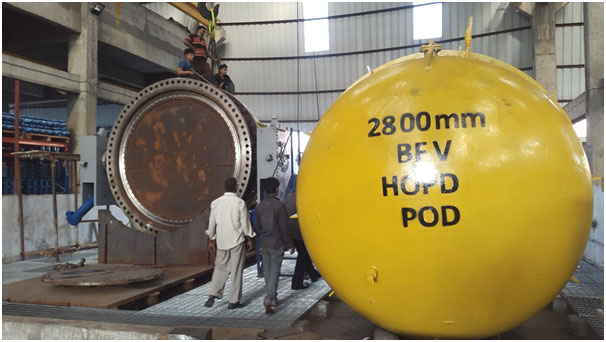noepi: (204, 173, 256, 311), (252, 175, 294, 312), (183, 26, 211, 78), (175, 46, 198, 78), (212, 63, 235, 94)
